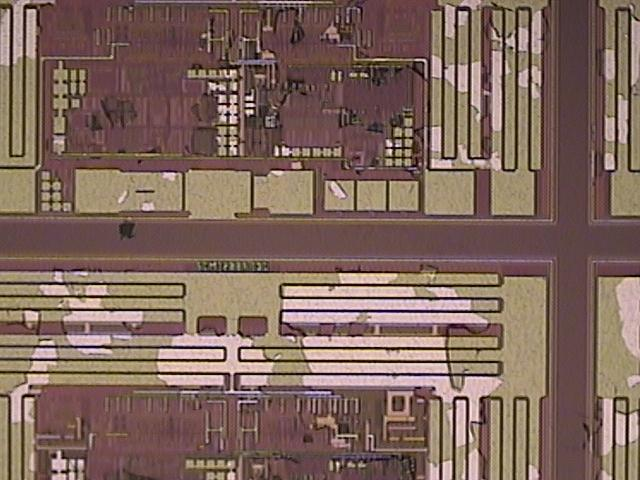COATING BAD: (1, 1, 640, 480)
